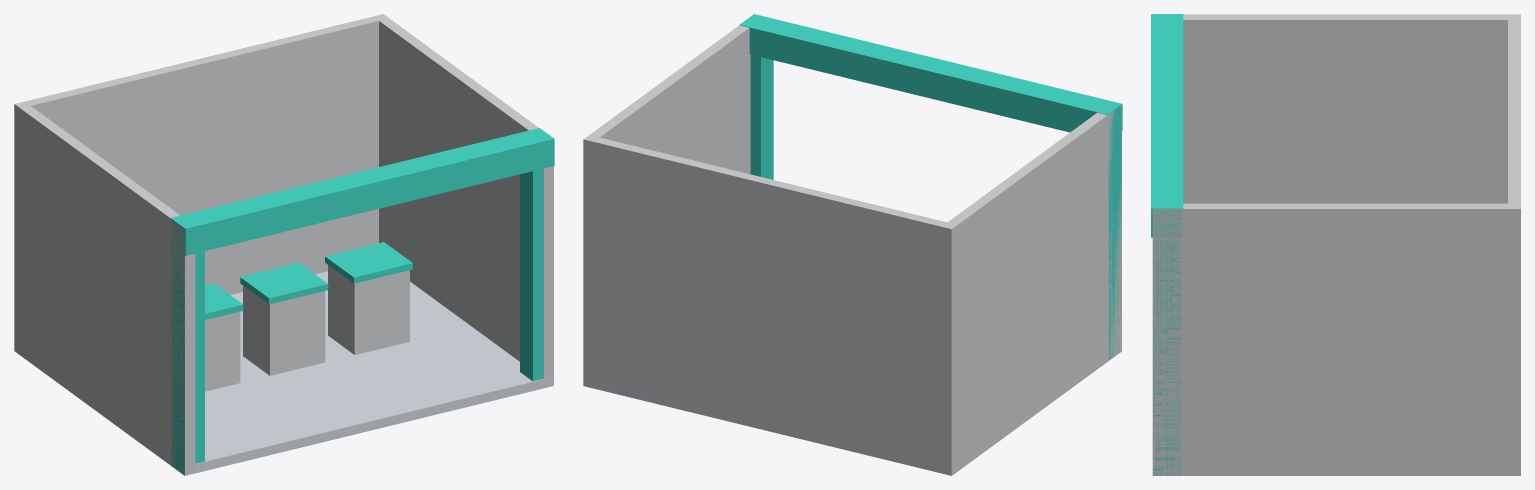
The picture shows the model from 3 angles, left to right: view 1: azimuth 30°, elevation 25°; view 2: azimuth 150°, elevation 25°; view 3: azimuth 270°, elevation 25°; orthographic projection. The views are drawn at different scales.
Visible parts, largest first — view 1: Exhibition Booth Concept; view 2: Exhibition Booth Concept; view 3: Exhibition Booth Concept.
Part boxes in pixels (x1,y1,x2,y2): Exhibition Booth Concept: (14, 14, 554, 475); Exhibition Booth Concept: (583, 14, 1122, 475); Exhibition Booth Concept: (1151, 14, 1520, 475).
Bounding box in the file's own units: 5 × 3.2 × 4.02.
